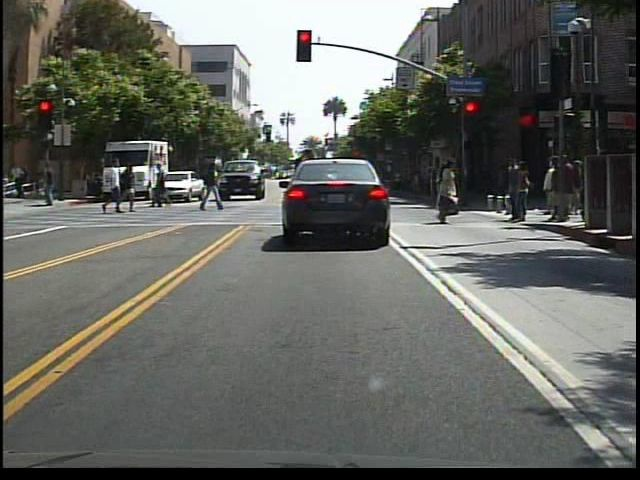person: (286, 136, 322, 232), (428, 159, 466, 228), (201, 161, 228, 215), (103, 159, 127, 219), (39, 162, 65, 214), (151, 161, 171, 213), (123, 165, 140, 214)
